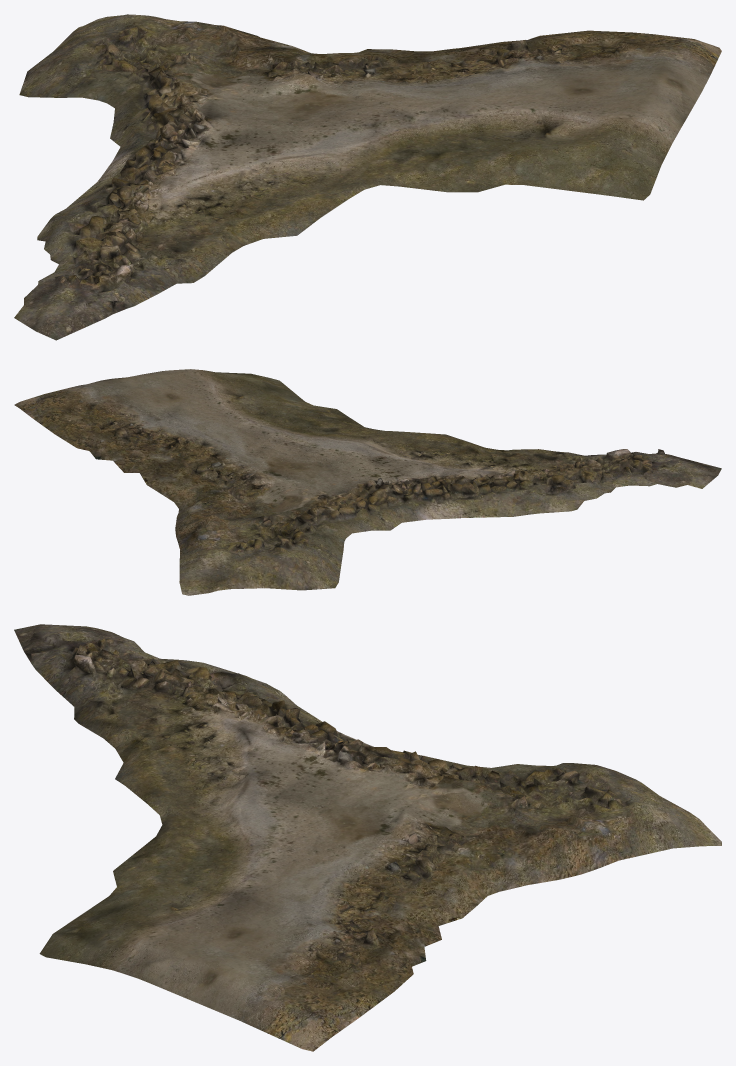
File: shelf_a.glb
3 renders of one model, top to bottom at view 1: azimuth 30°, elevation 25°; view 2: azimuth 150°, elevation 25°; view 3: azimuth 270°, elevation 25°, orthographic. The views are drawn at different scales.
Parts seen in each view (by area): view 1: coast_rocks_01; view 2: coast_rocks_01; view 3: coast_rocks_01.
Boxes of the visible parts, x1,y1,x2,y2 form: coast_rocks_01: (14,14,721,340); coast_rocks_01: (14,369,721,595); coast_rocks_01: (14,624,721,1051).
Size of the model in its own units: 59.34 by 3.29 by 42.48.
Materials: 1 (1 with a texture image).
